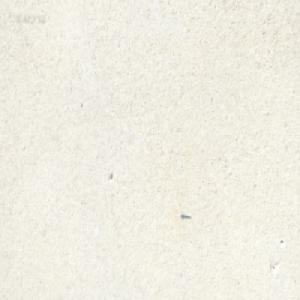Nail: (180, 212, 191, 220)
